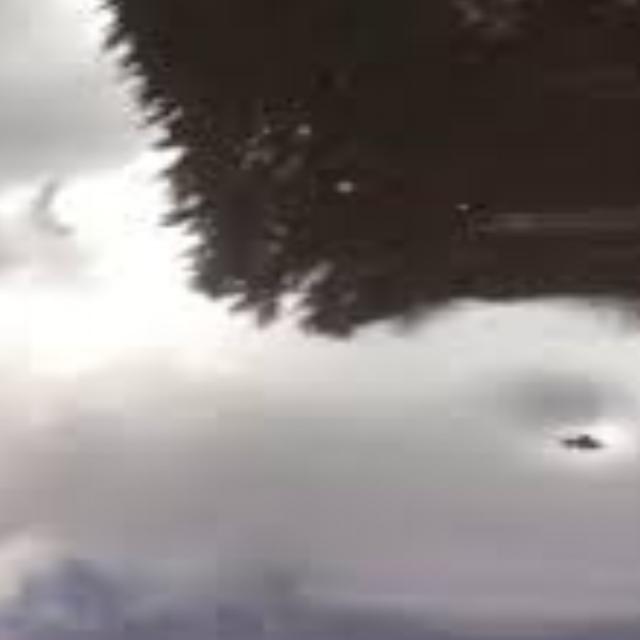dents: (538, 406, 640, 482)
